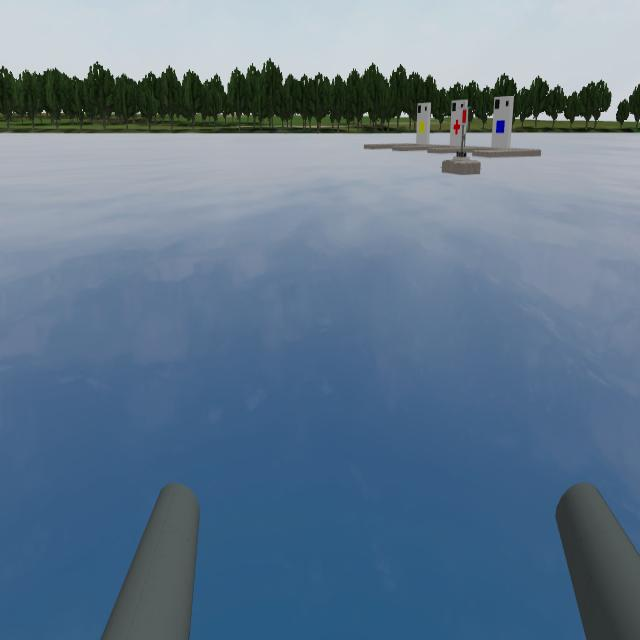red_pole: (458, 104, 473, 131)
